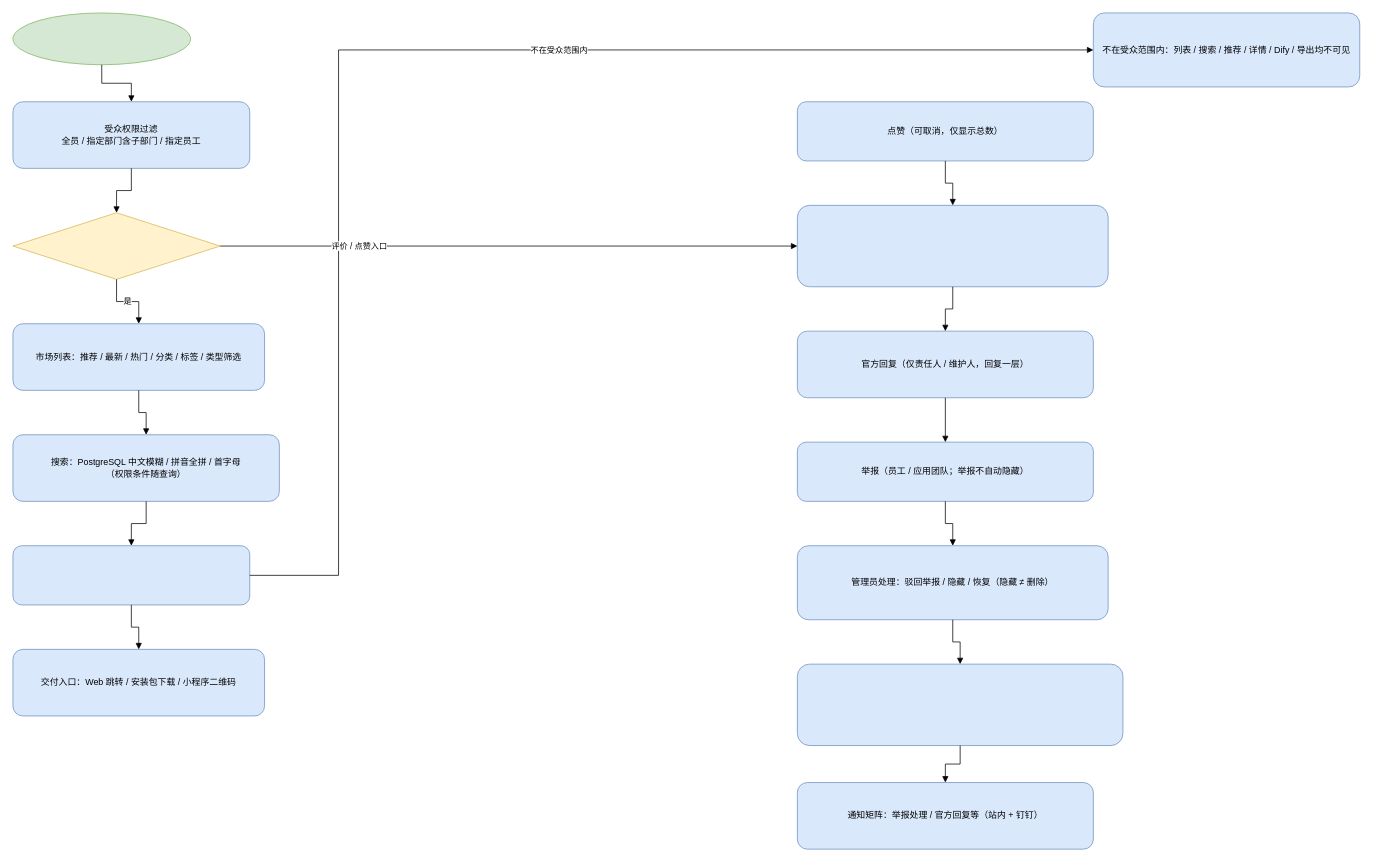
Some shapes in this 1373 by 862 pixel diagram are drawn without their labels. The shapes that lost their labels are listed below. From the top down, each one's centre as x and y in pixels, then its label:
the point at 101,38: 访问应用市场
the point at 116,245: 在受众范围内？
the point at 952,246: 评分与评价：1–5 星必填，文字可选 可实名或匿名（跨版本保留）
the point at 131,575: 应用详情：版本 / 风险声明 / 交付入口
the point at 960,704: 审计：匿名身份仅超级管理员高权限可查，查询行为本身入审计
